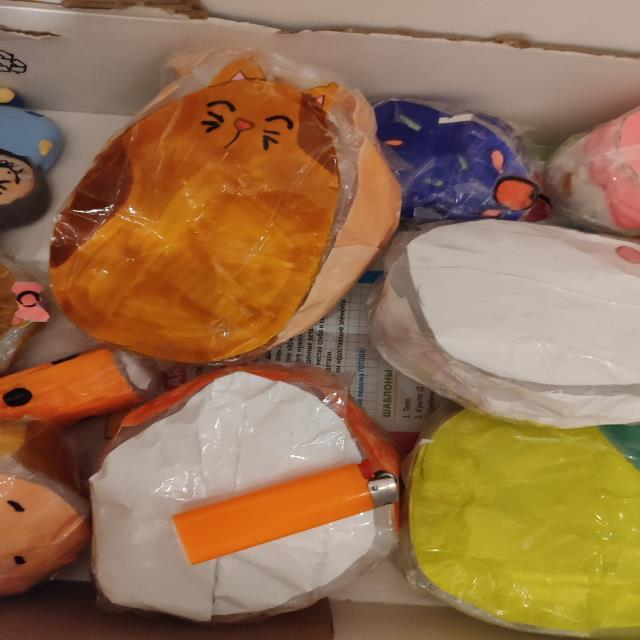lighter: (172, 464, 398, 563)
